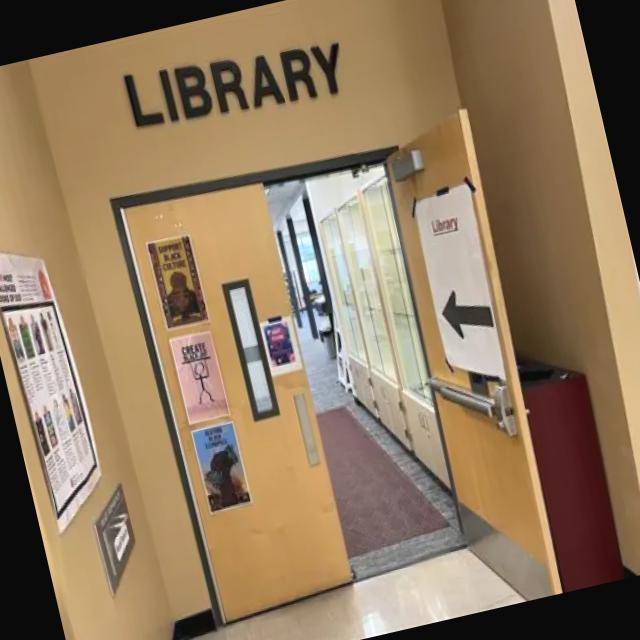door: (110, 109, 562, 630)
